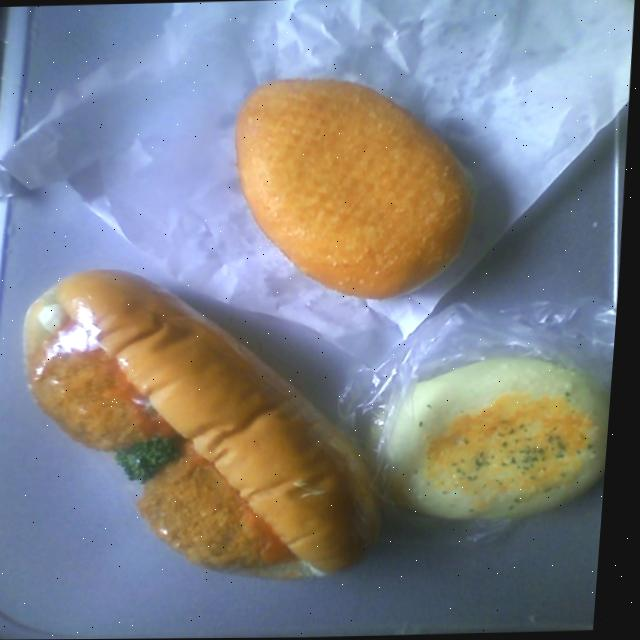三明治: (5, 240, 405, 590), (213, 53, 518, 304), (377, 341, 620, 540)
